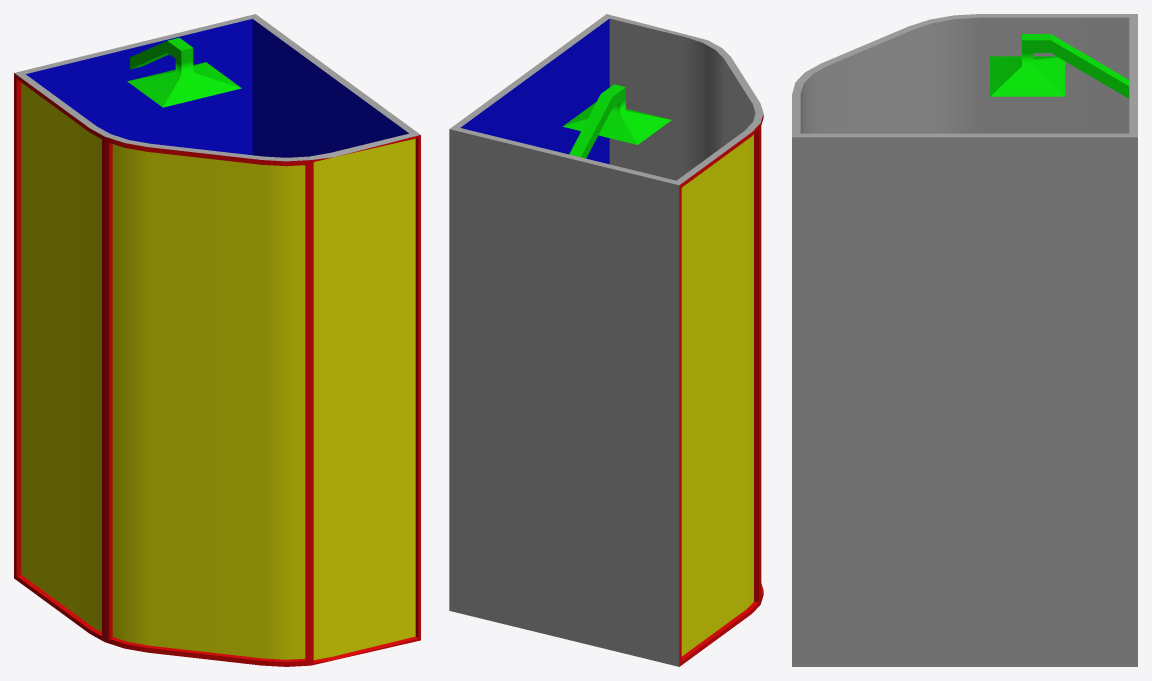
File: Shower.fbx
The picture shows the model from 3 angles, left to right: view 1: azimuth 30°, elevation 25°; view 2: azimuth 150°, elevation 25°; view 3: azimuth 270°, elevation 25°; orthographic projection. The views are drawn at different scales.
Visible parts, largest first — view 1: pCube1; view 2: pCube1; view 3: pCube1.
Boxes of the visible parts, x1=… form: pCube1: x1=14, y1=14, x2=420, y2=666; pCube1: x1=449, y1=14, x2=763, y2=666; pCube1: x1=792, y1=14, x2=1137, y2=666.
Size of the model in its own units: 100 by 214 by 118.
